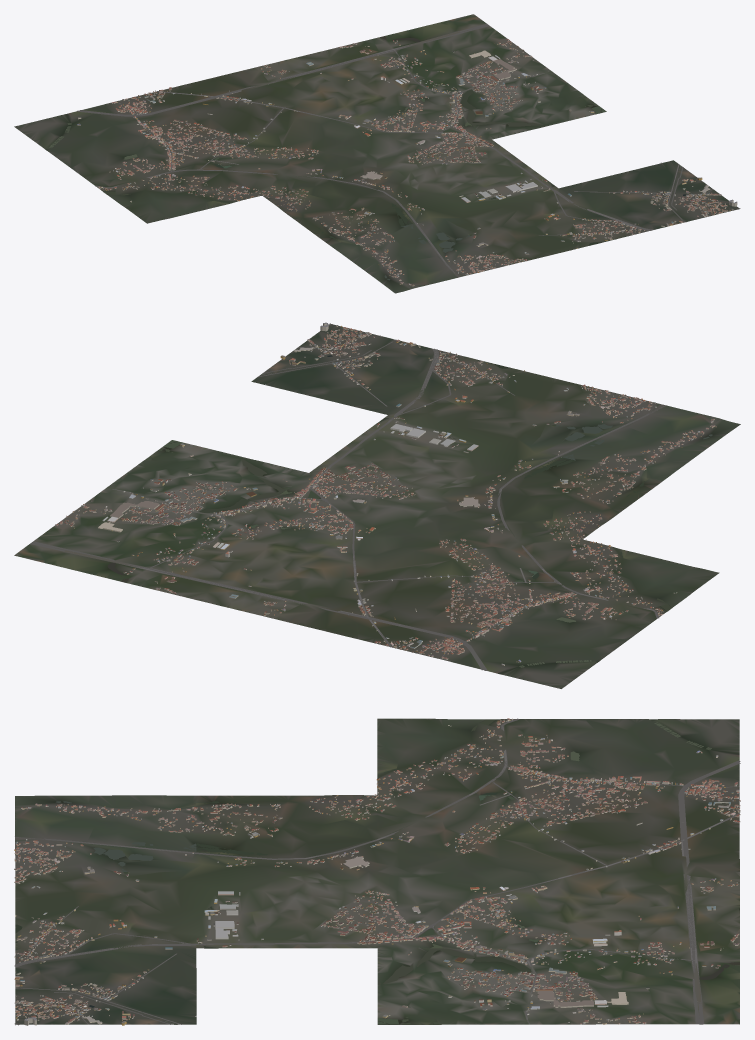
3 views of the same model, one above another, from view 1: azimuth 30°, elevation 25°; view 2: azimuth 150°, elevation 25°; view 3: azimuth 270°, elevation 25° (orthographic). The views are drawn at different scales.
Visible parts, largest first — view 1: ground, buildings, roads, water; view 2: ground, buildings, roads, water; view 3: ground, buildings, roads, water.
Boxes of the visible parts, left/top/right/bottom form: ground: left=14, top=14, right=739, bottom=293; buildings: left=77, top=39, right=737, bottom=286; roads: left=77, top=23, right=740, bottom=273; water: left=49, top=36, right=685, bottom=280; ground: left=14, top=323, right=740, bottom=688; buildings: left=55, top=322, right=716, bottom=665; roads: left=30, top=323, right=666, bottom=670; water: left=107, top=355, right=712, bottom=669; ground: left=15, top=718, right=739, bottom=1024; buildings: left=14, top=718, right=740, bottom=1025; roads: left=14, top=718, right=740, bottom=1025; water: left=15, top=719, right=739, bottom=1024.
Size of the model in its own units: 5625 by 47.39 by 5626.
